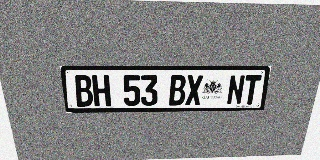3: (141, 75, 158, 106)
5: (123, 75, 141, 106)
B: (73, 75, 94, 107), (169, 75, 186, 105)
H: (92, 75, 111, 106)
N: (226, 75, 246, 105)
T: (242, 75, 262, 105)
X: (185, 75, 203, 105)
